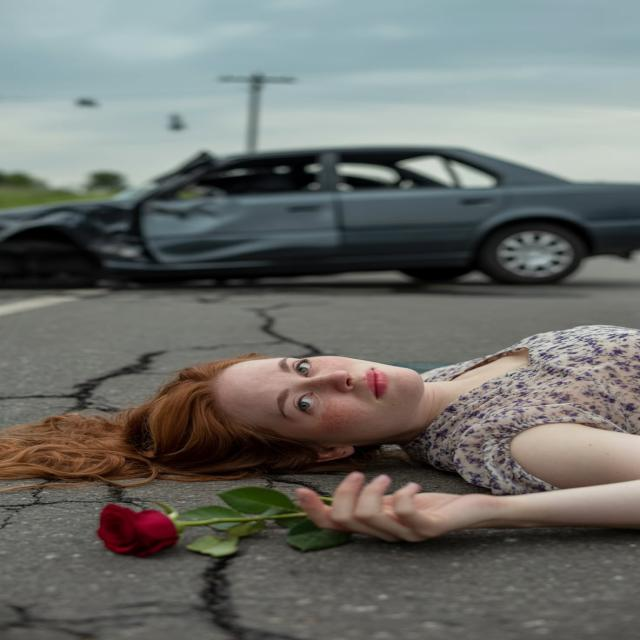injury: (117, 360, 436, 471)
no injury: (0, 320, 639, 541)
